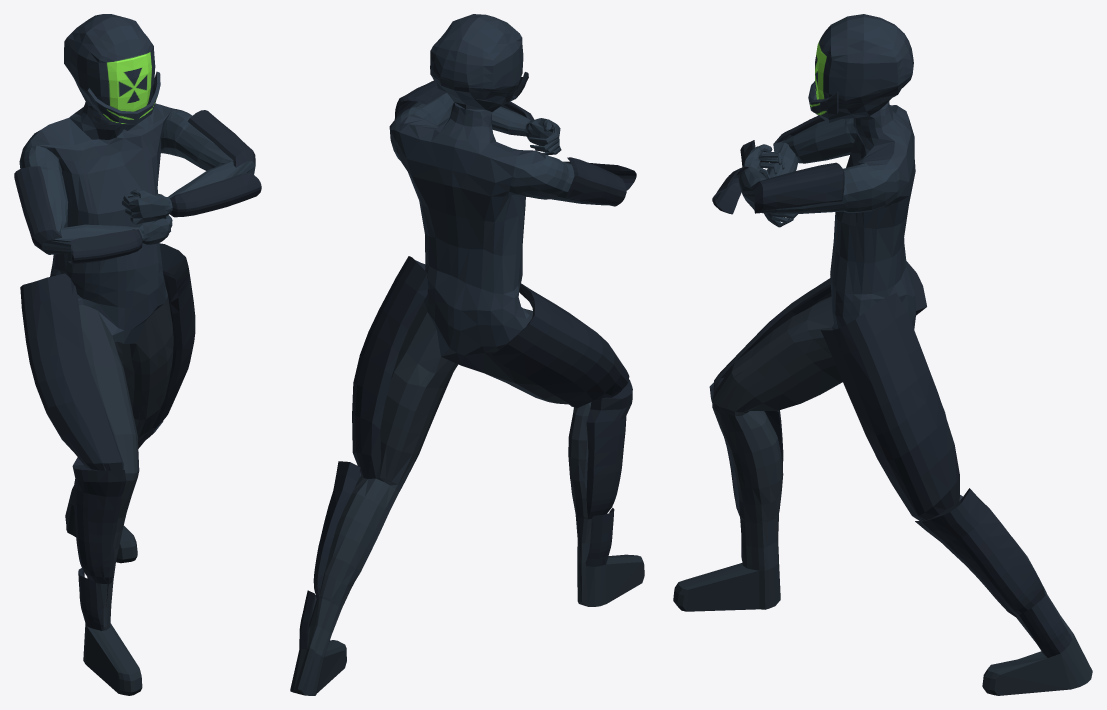
File: Bastion_WL_000003.obj
3 renders of one model, left to right at view 1: azimuth 30°, elevation 25°; view 2: azimuth 150°, elevation 25°; view 3: azimuth 270°, elevation 25°, orthographic. The views are drawn at different scales.
Parts seen in each view (by area): view 1: Cube.002; view 2: Cube.002; view 3: Cube.002.
Part boxes in pixels (box(x1,y1,x2,y2)): Cube.002: box(14, 14, 261, 695); Cube.002: box(290, 14, 644, 695); Cube.002: box(673, 14, 1092, 695).
Bounding box in the file's own units: 1.31 × 3.59 × 2.15.
